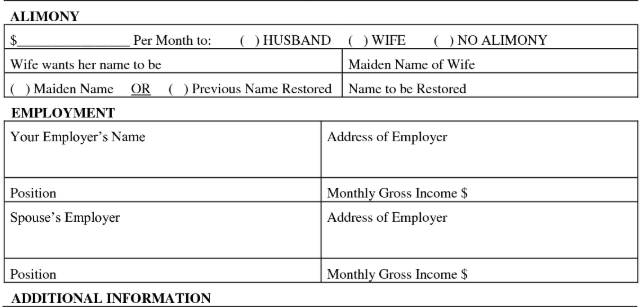checkbox: (240, 33, 260, 48), (348, 33, 368, 48), (433, 33, 453, 48), (10, 82, 30, 97), (168, 82, 188, 97)
textbox: (3, 119, 325, 182), (318, 118, 640, 181), (318, 198, 640, 261), (1, 198, 323, 261), (317, 173, 642, 204), (317, 254, 642, 285), (1, 175, 325, 206), (1, 254, 325, 285)
textline: (15, 34, 132, 48)
